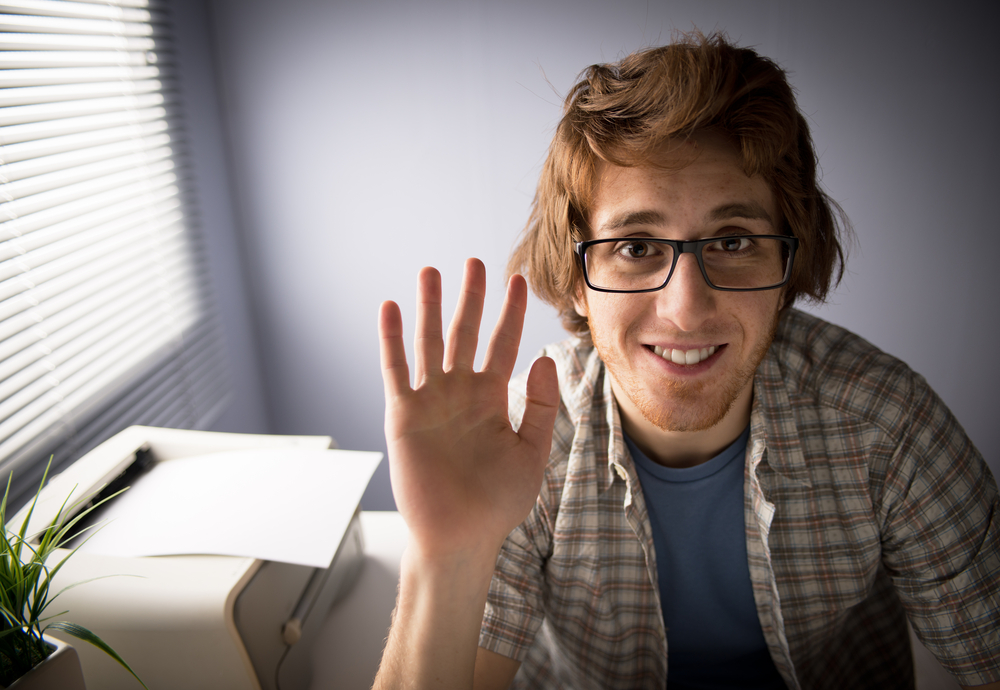person: (369, 28, 997, 688)
